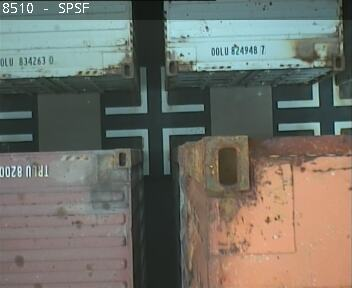groundmarker_1: (105, 126, 205, 173), (104, 67, 204, 113), (277, 73, 351, 107), (278, 121, 352, 135)
